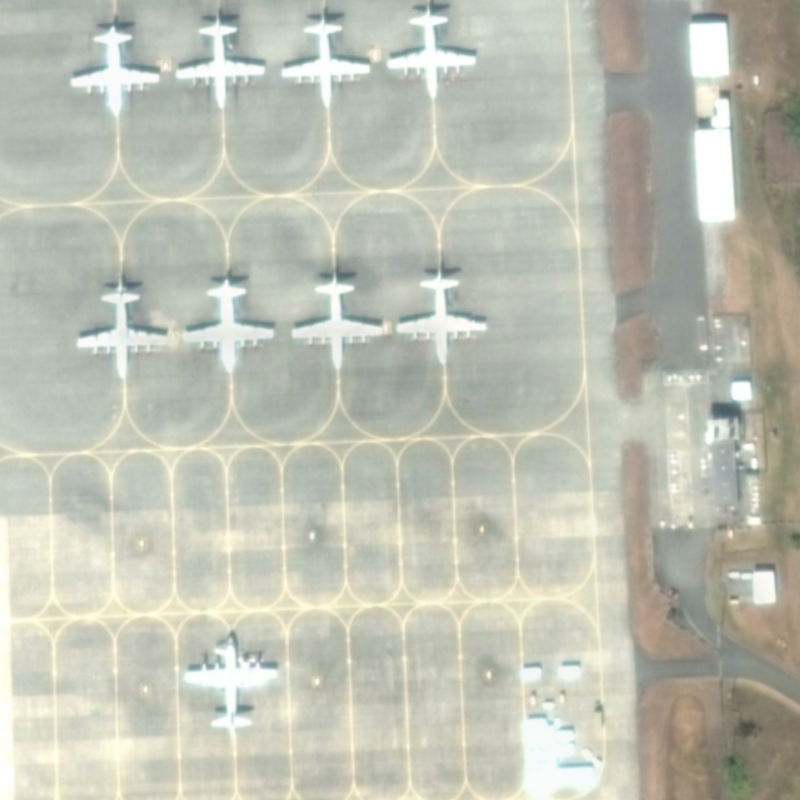A9: (65, 260, 170, 392), (177, 621, 285, 744), (282, 264, 389, 380), (166, 2, 272, 118), (63, 9, 163, 130), (389, 257, 493, 373), (176, 269, 282, 381), (273, 4, 378, 115), (379, 1, 482, 103)
